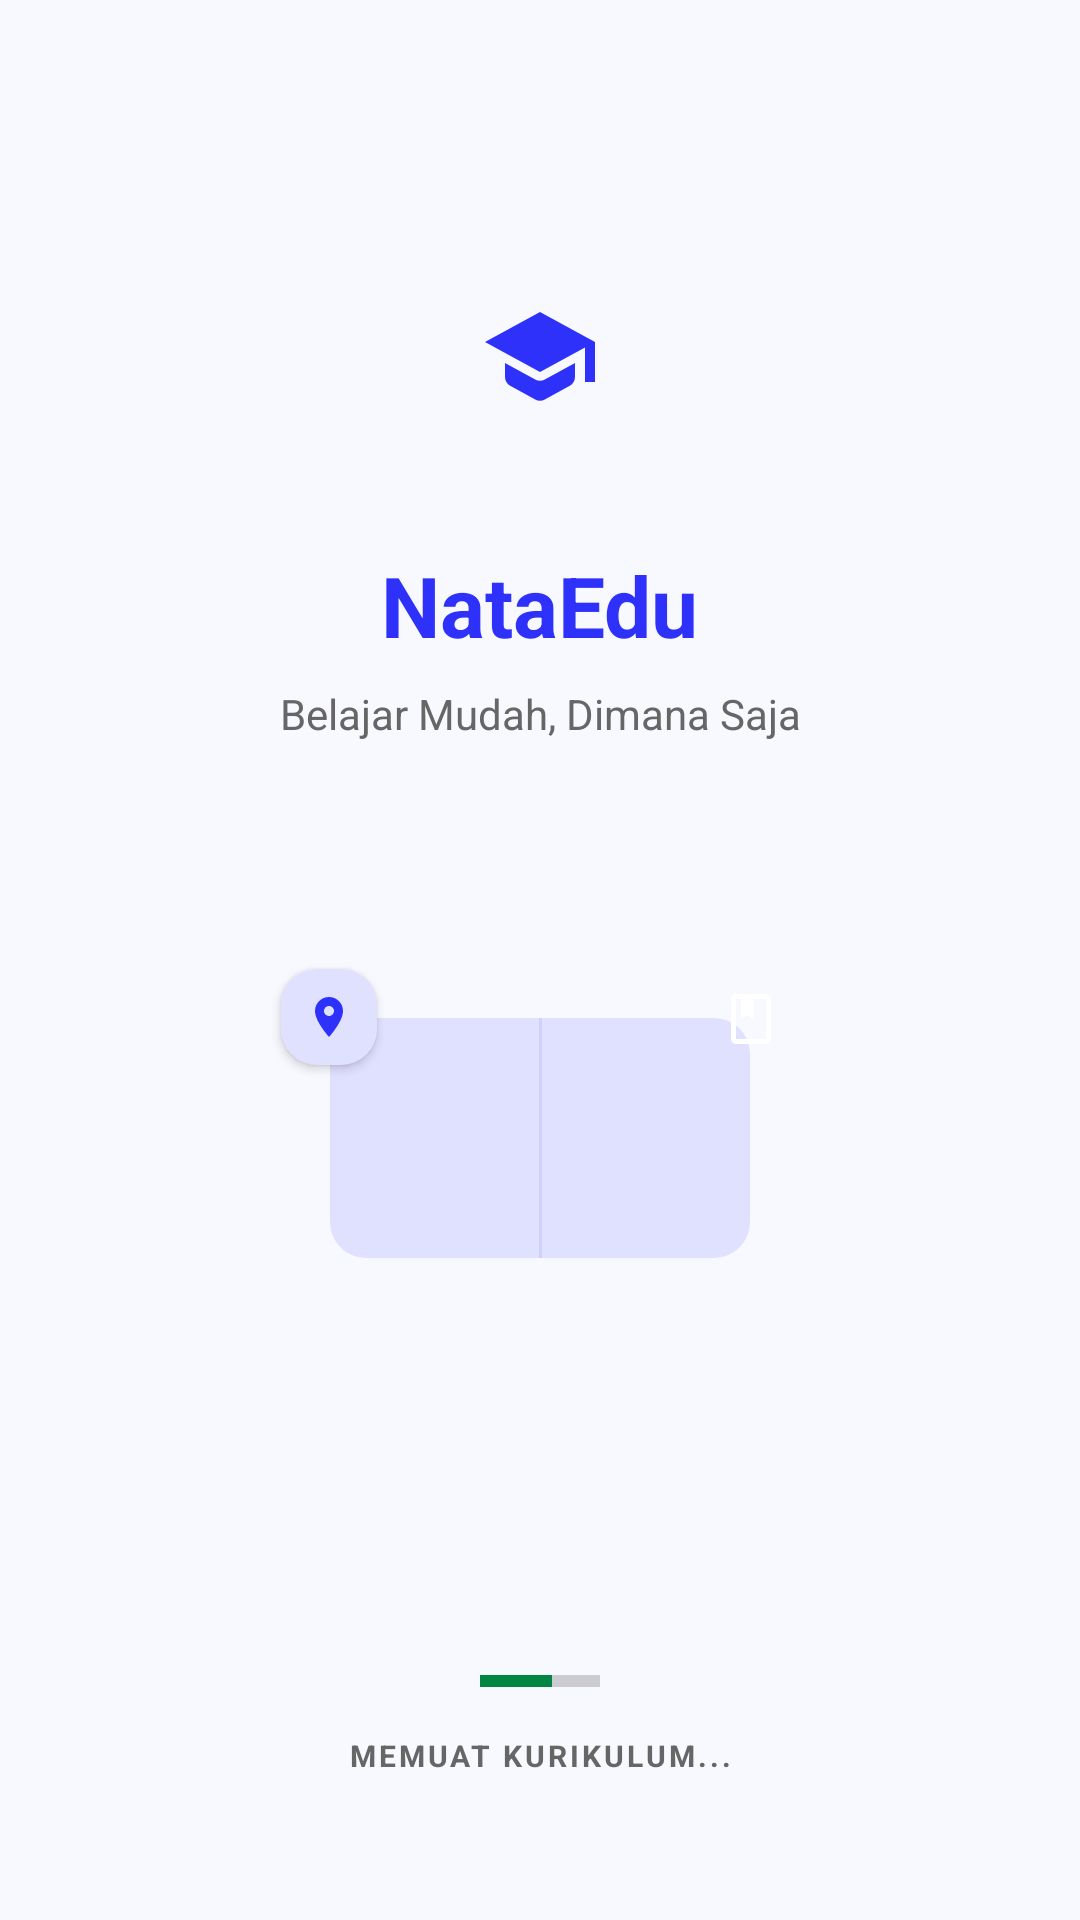

Screen size 1080x1920. Icon name, then its center in pixels as (x=x, y=y):
graduation cap: (x=540, y=356)
location: (x=329, y=1017)
